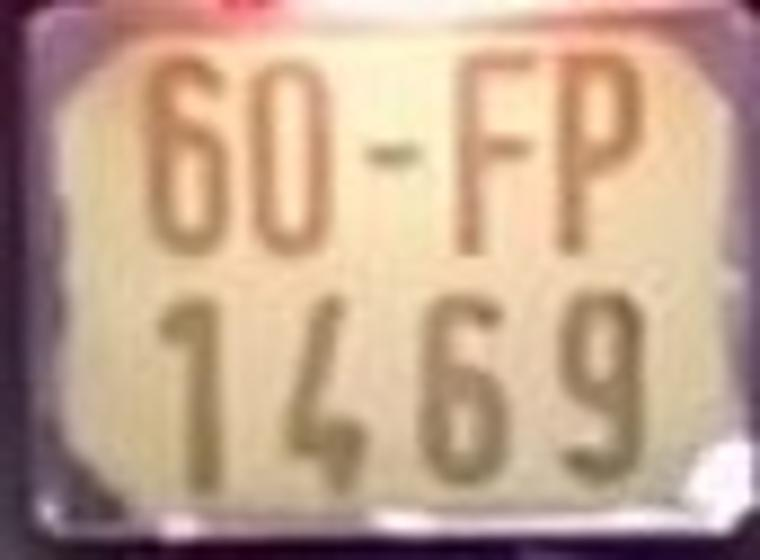-: (356, 130, 425, 177)
0: (251, 47, 346, 262)
1: (150, 291, 235, 489)
4: (269, 295, 375, 493)
6: (143, 47, 238, 272), (420, 287, 518, 480)
9: (557, 284, 655, 481)
F: (449, 45, 550, 248)
P: (557, 42, 649, 262)
